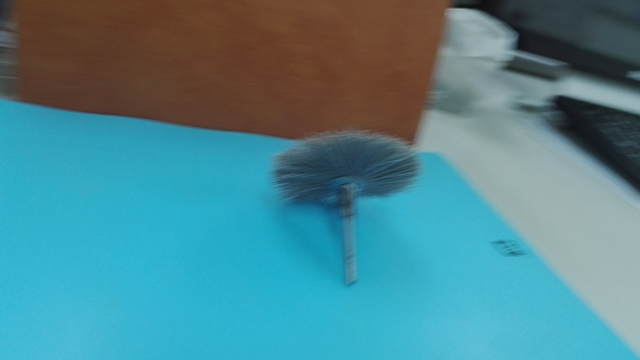TOOL: (221, 123, 444, 268)
